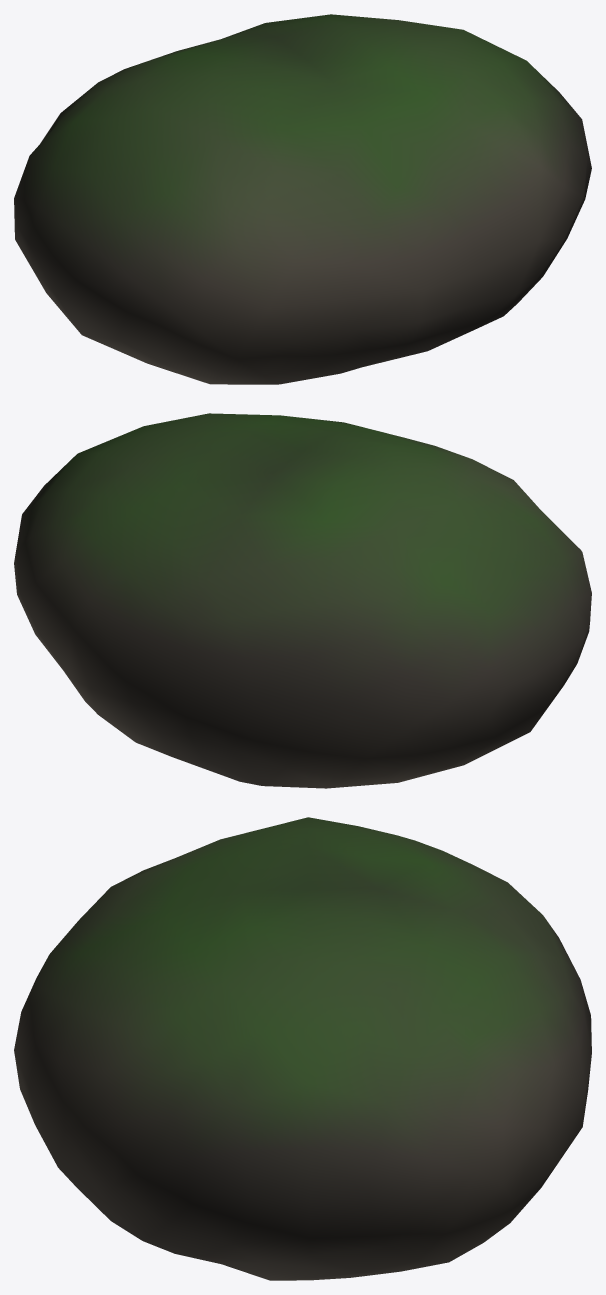
File: pebble_3.glb
3 renders of one model, top to bottom at view 1: azimuth 30°, elevation 25°; view 2: azimuth 150°, elevation 25°; view 3: azimuth 270°, elevation 25°, orthographic. The views are drawn at different scales.
Parts seen in each view (by area): view 1: pebble_3; view 2: pebble_3; view 3: pebble_3.
Boxes of the visible parts, x1,y1,x2,y2 form: pebble_3: (14,14,591,384); pebble_3: (14,413,591,788); pebble_3: (14,817,591,1280).
Bounding box in the file's own units: 0.6312 × 0.3592 × 0.5165.
